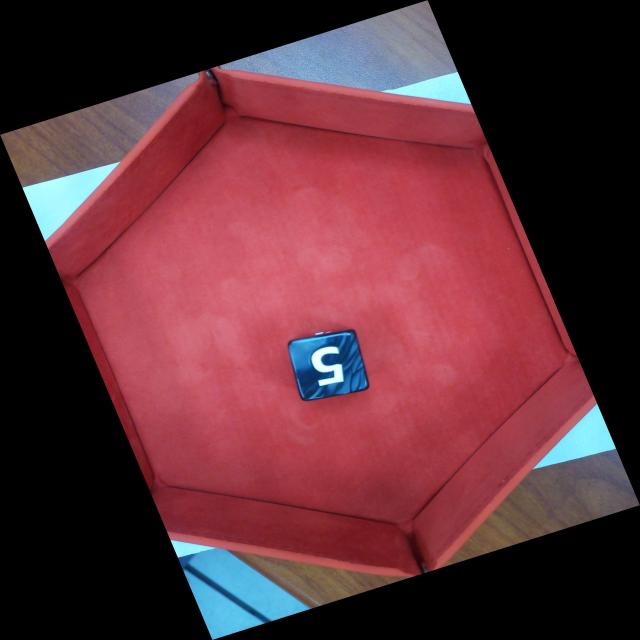dice: (287, 330, 370, 403)
